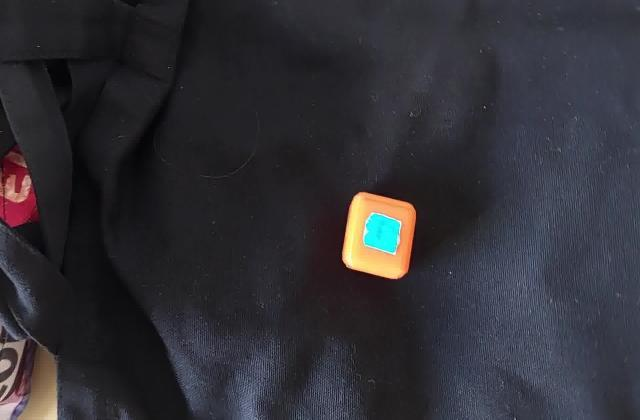blue: (372, 220, 394, 248)
sticker: (340, 189, 418, 285)
